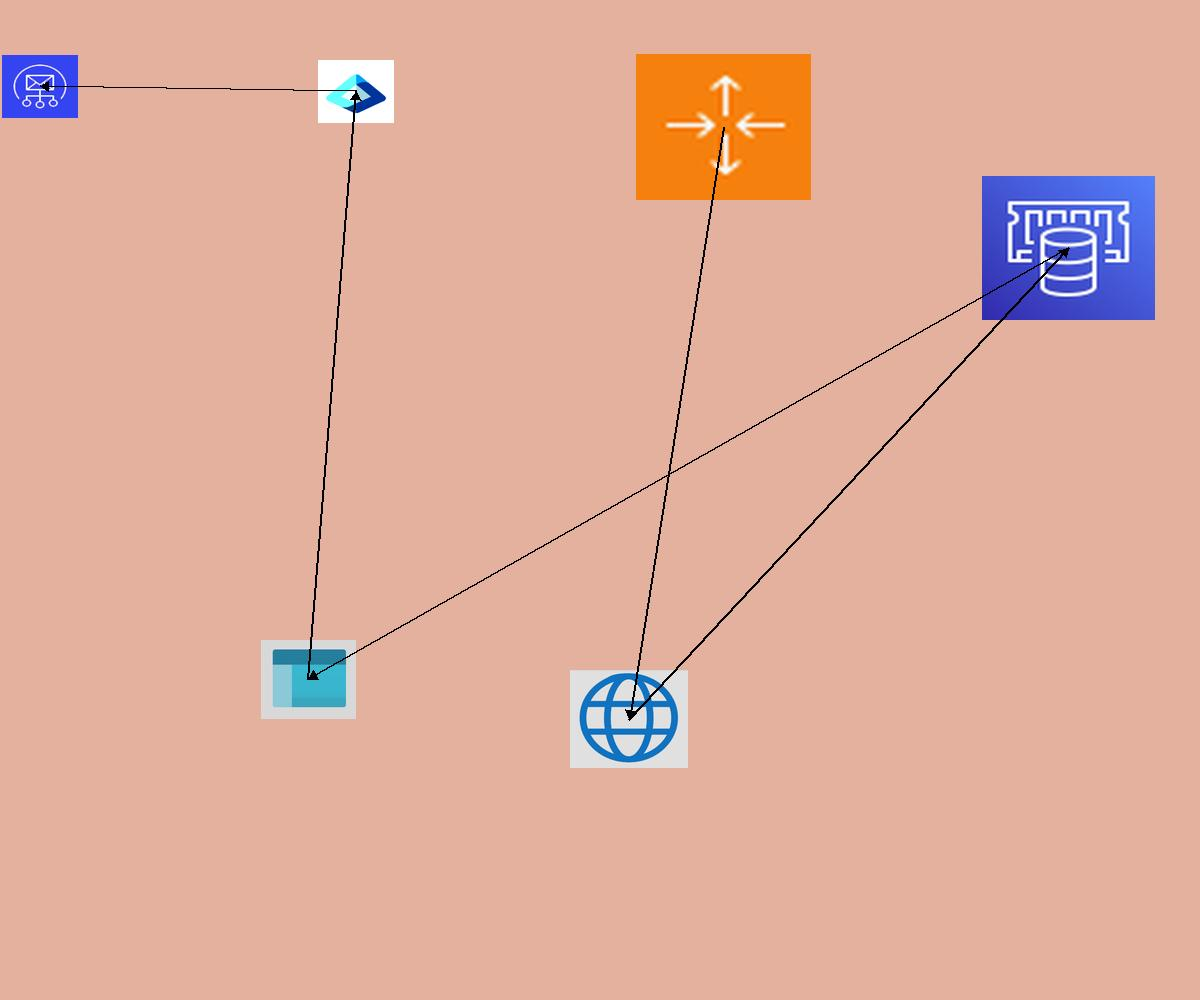AWS-ElastiCache: (982, 176, 1155, 320)
AWS-Scaling-group: (636, 54, 811, 200)
AWS-Simple-Email-Service: (2, 55, 78, 118)
Azure_http: (570, 670, 688, 768)
Azure_management-portal: (261, 640, 356, 719)
Azure_microsoft_entra: (318, 60, 394, 123)
